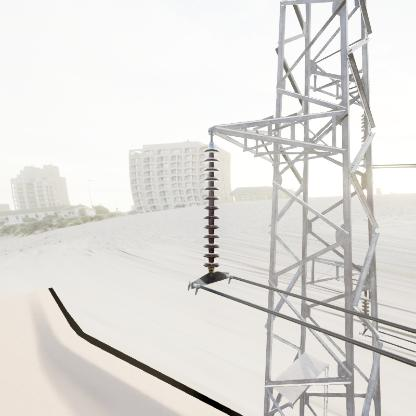insulator: (199, 145, 223, 274)
